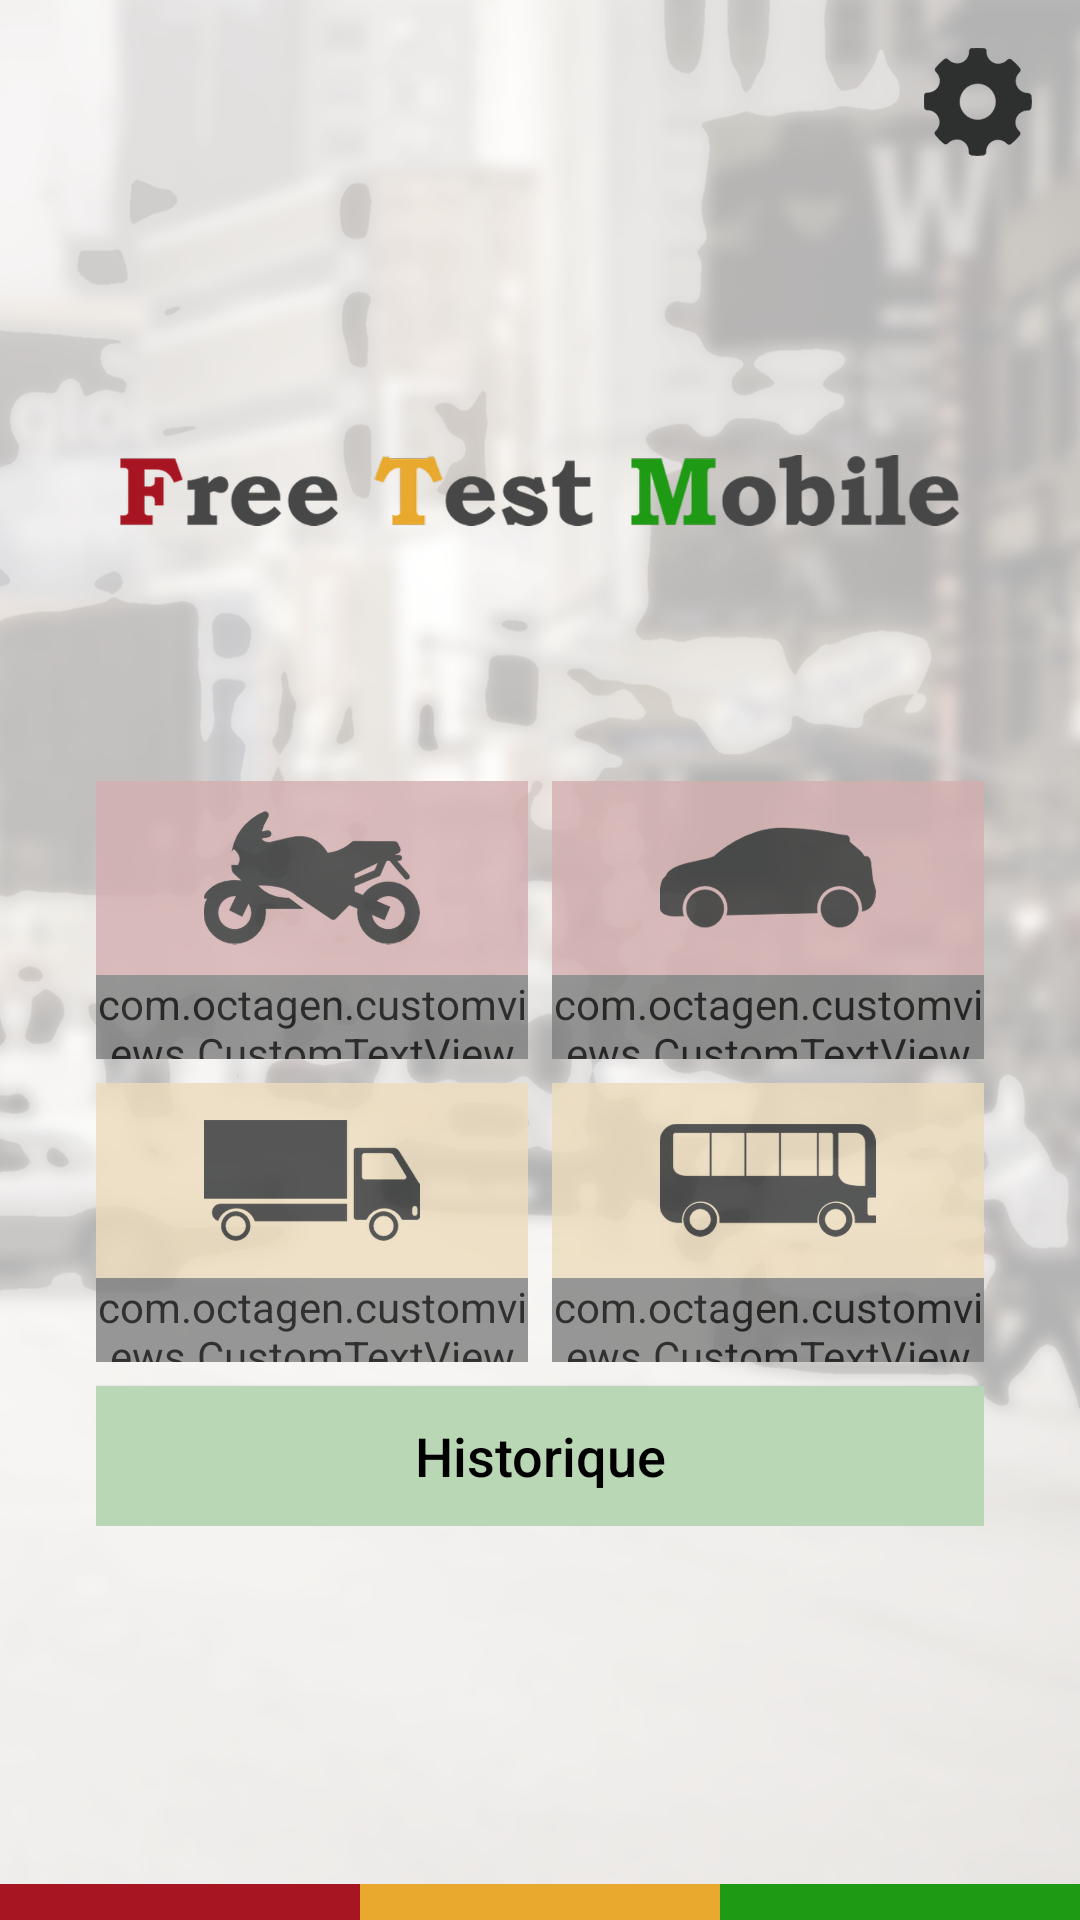

Icons on this 1080w x 1920h Android screen, each with the point to tap as point (x, y):
bus: point (768, 1180)
camion: point (312, 1180)
motorcycle: point (312, 878)
settings: point (978, 102)
vehicle: point (768, 877)
